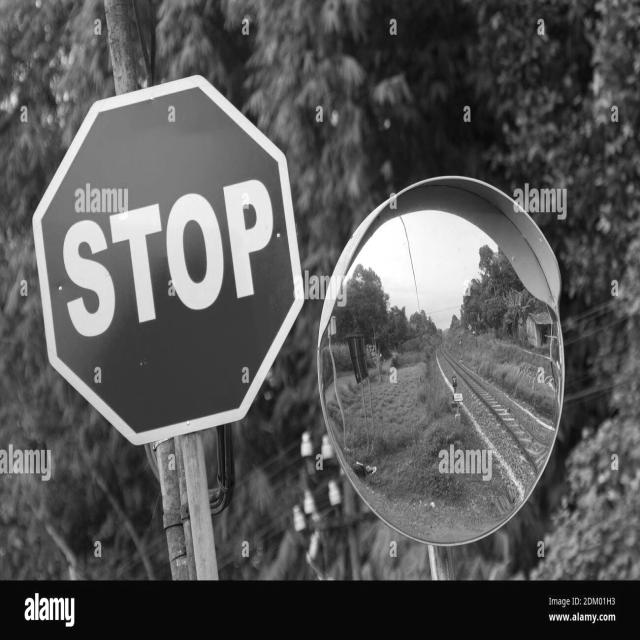Stop-sign: (34, 62, 306, 452)
